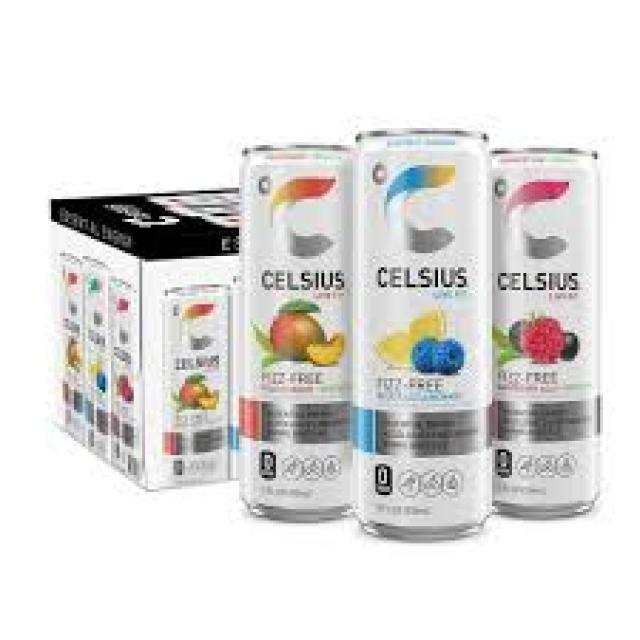Cans: (350, 120, 498, 540), (233, 134, 361, 523), (484, 140, 608, 520)
